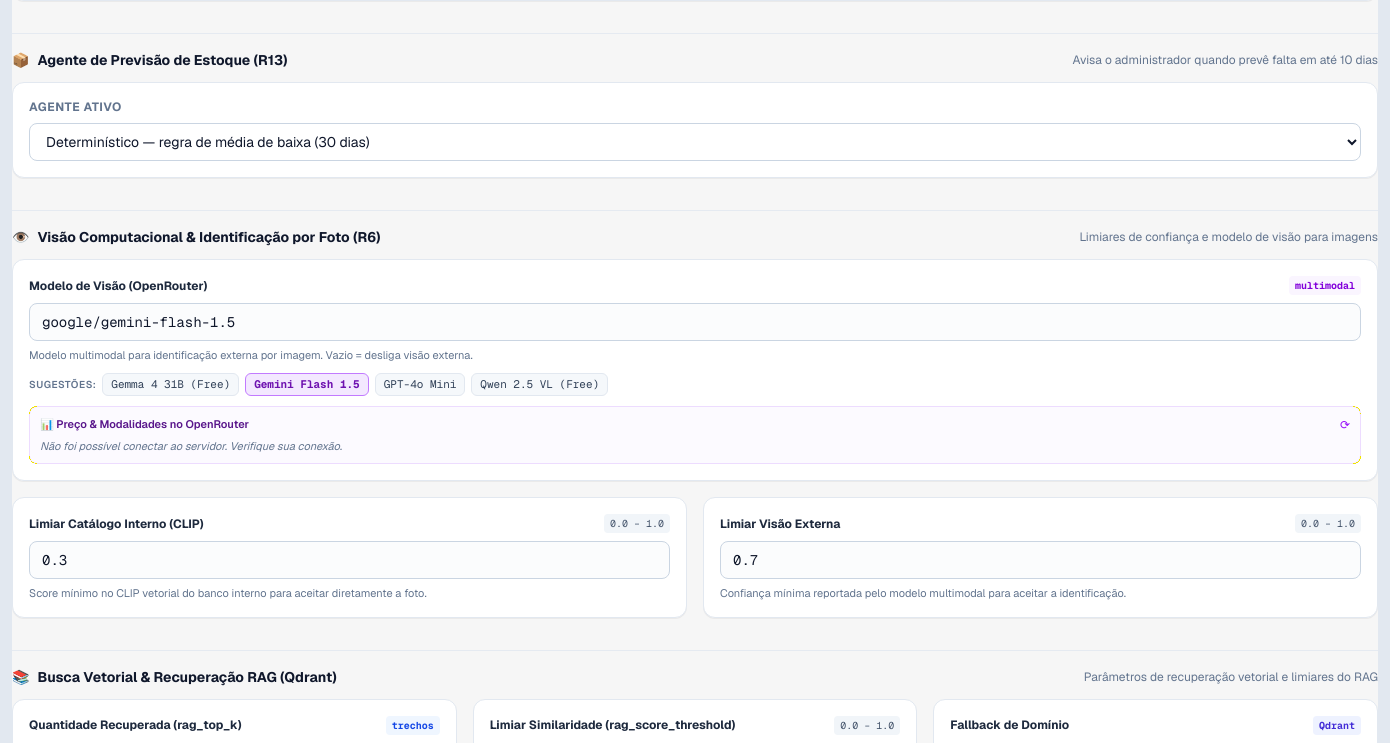
Scenario: RuntimeSettingsForm › permite selecionar uma sugestão de modelo de visão e atualiza o input
(page scrolled)
Expected: the field labelled "Modelo de Visão (OpenRouter)" holds "google/gemini-flash-1.5", [29,303,1361,341]
Click the button "Gemma 4 31B (Free)" at (171, 384), box [102,373,239,396]
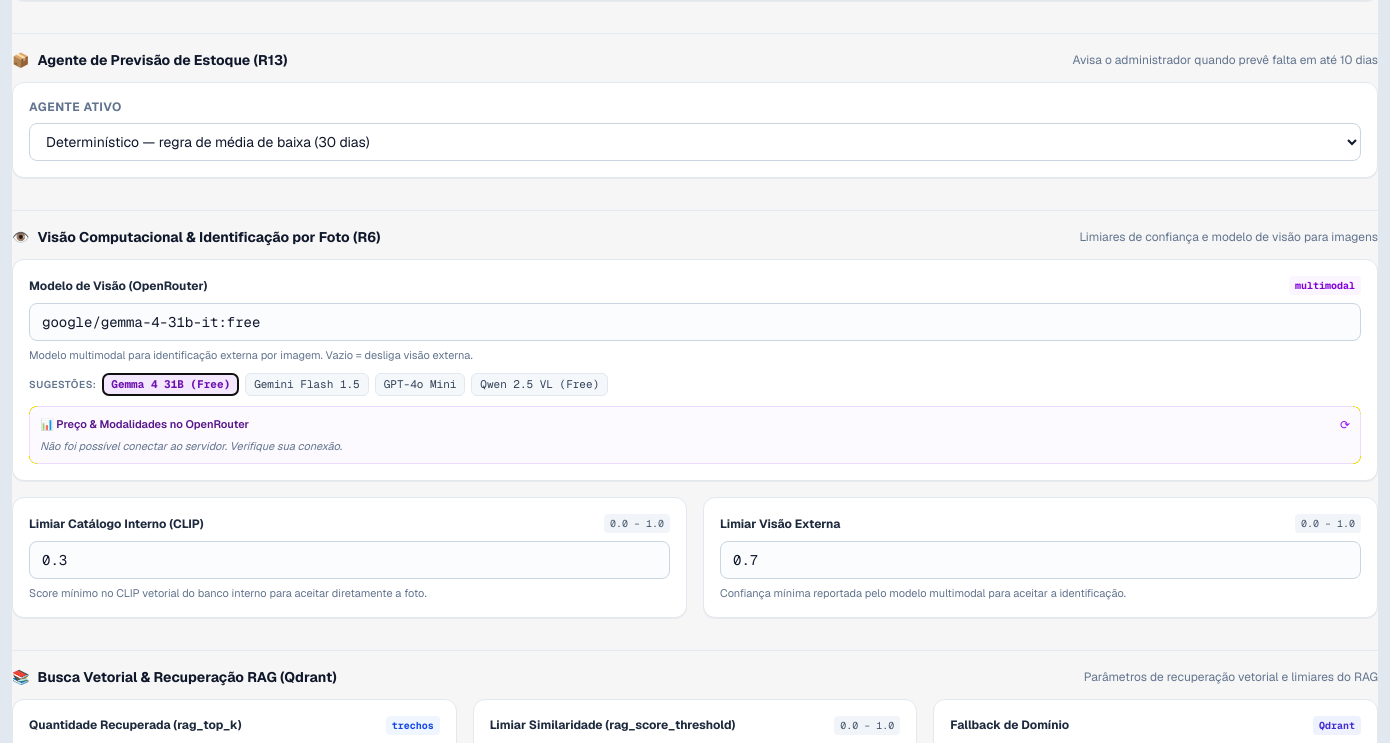
Expected: the field labelled "Modelo de Visão (OpenRouter)" holds "google/gemma-4-31b-it:free", [29,303,1361,341]
